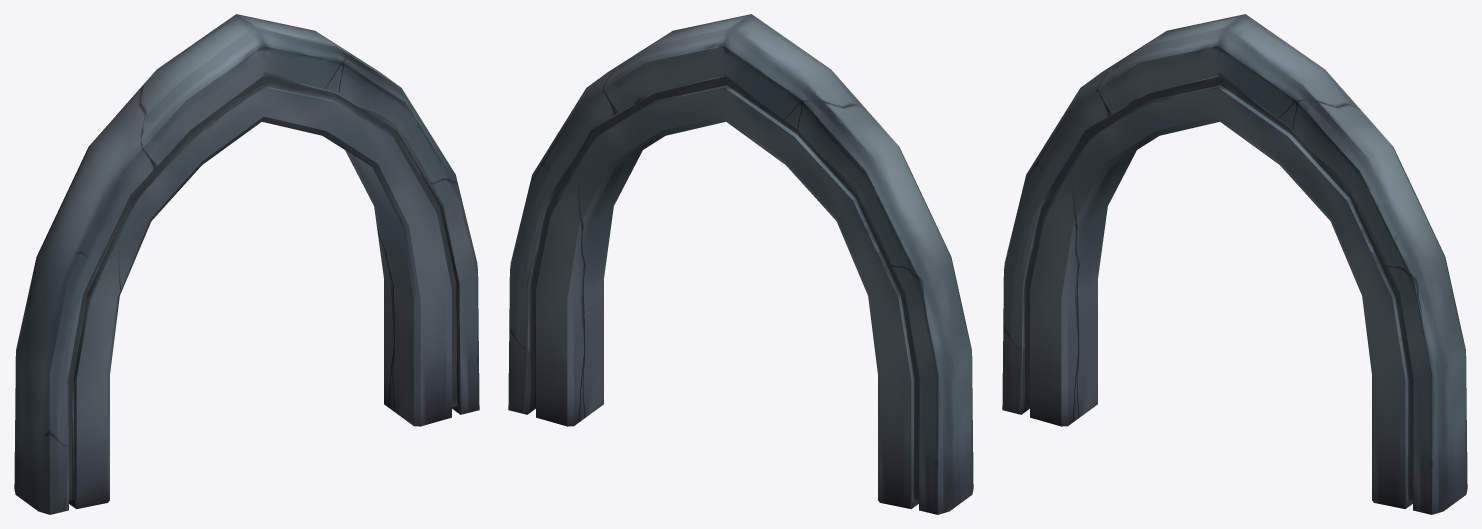
Rendered from arch-short.fbx.
3 views of the same model, side by side, from view 1: azimuth 30°, elevation 25°; view 2: azimuth 150°, elevation 25°; view 3: azimuth 330°, elevation 25° (orthographic).
Parts seen in each view (by area): view 1: arch-short; view 2: arch-short; view 3: arch-short.
Part boxes in pixels (x1=…): arch-short: x1=14, y1=14, x2=479, y2=514; arch-short: x1=508, y1=14, x2=973, y2=514; arch-short: x1=1002, y1=14, x2=1467, y2=514.
Size of the model in its own units: 638 by 597 by 89.56.
